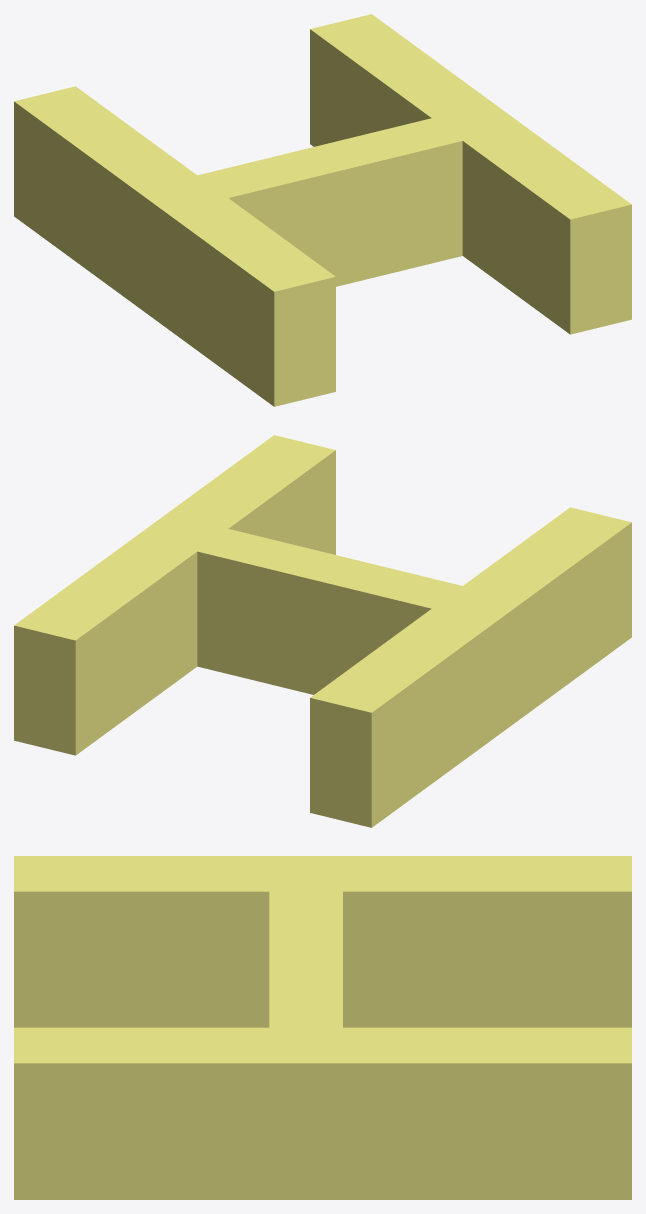
Rendered from MOU-05-24_SoundSticker_PDF_ARAsset.gltf.
3 views of the same model, one above another, from view 1: azimuth 30°, elevation 25°; view 2: azimuth 150°, elevation 25°; view 3: azimuth 270°, elevation 25° (orthographic). The views are drawn at different scales.
Visible parts, largest first — view 1: Extrude; view 2: Extrude; view 3: Extrude.
Part boxes in pixels (x1,y1,x2,y2): Extrude: (14, 14, 631, 406); Extrude: (14, 435, 631, 827); Extrude: (14, 856, 631, 1199).
Bounding box in the file's own units: 1.14 × 0.35 × 1.43.
